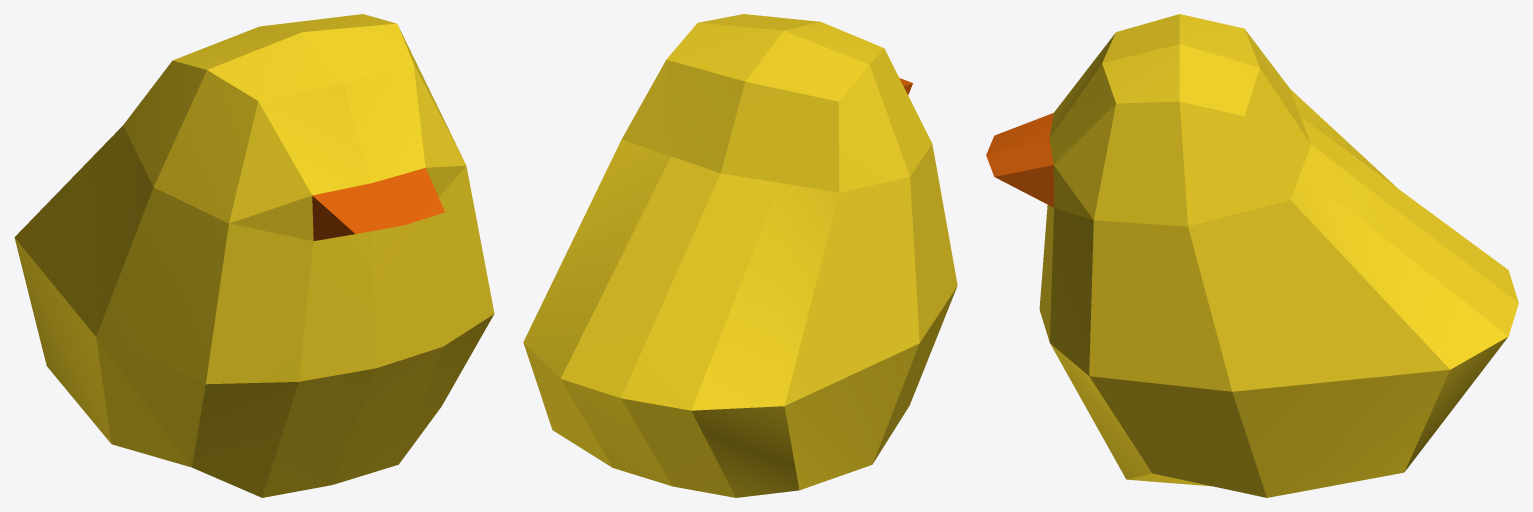
File: chicken.FBX
3 views of the same model, side by side, from view 1: azimuth 30°, elevation 25°; view 2: azimuth 150°, elevation 25°; view 3: azimuth 270°, elevation 25° (orthographic). The views are drawn at different scales.
Visible parts, largest first — view 1: chicken; view 2: chicken; view 3: chicken.
Part boxes in pixels (x1,y1,x2,y2): chicken: (14,14,494,497); chicken: (523,14,957,497); chicken: (986,14,1518,497).
Bounding box in the file's own units: 8.39 × 10.02 × 11.51.
